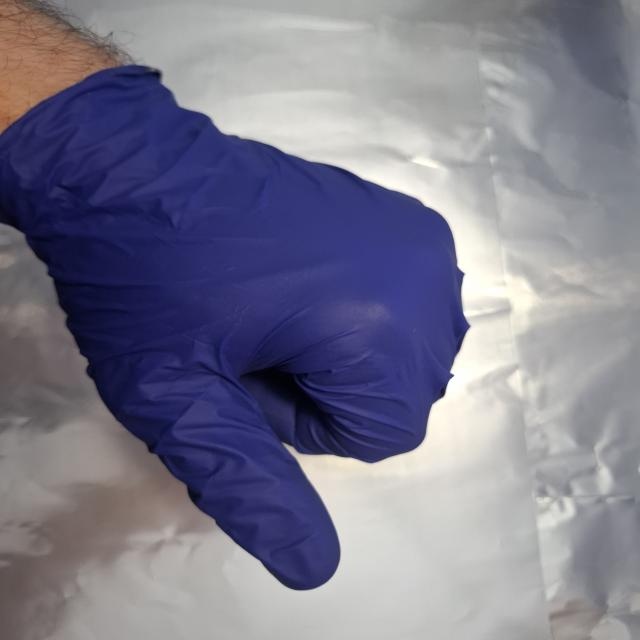glove_on: (14, 66, 476, 595)
